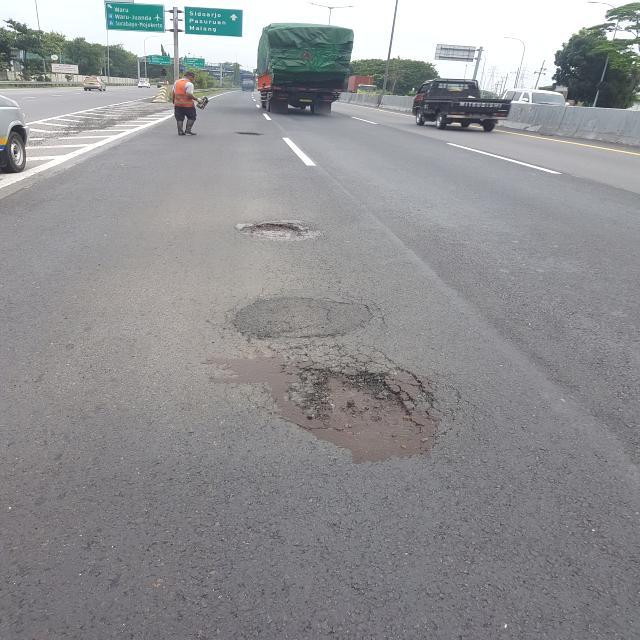Buraco: (282, 364, 441, 436), (237, 220, 314, 240), (235, 130, 265, 138)
